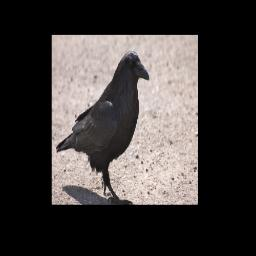Crow: (55, 50, 151, 204)
